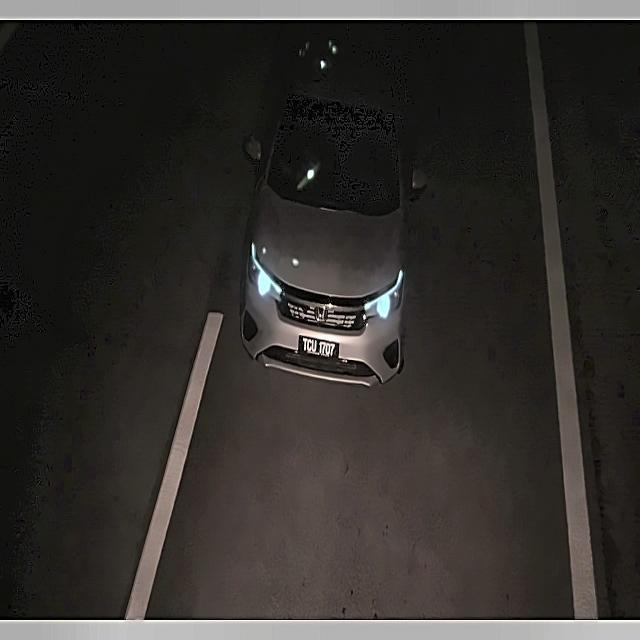car: (297, 327, 339, 368)
